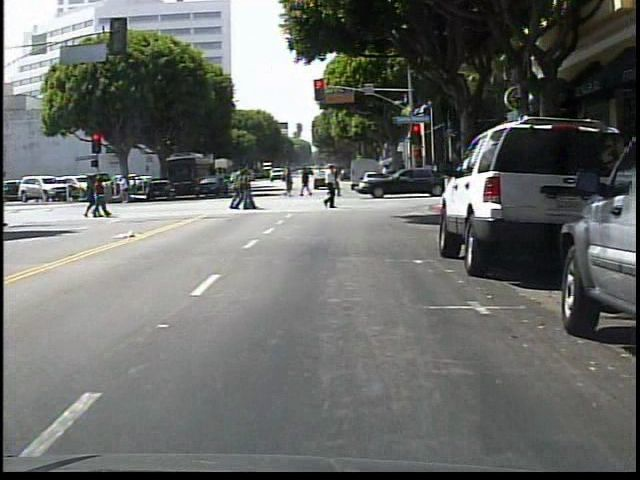person: (319, 160, 343, 212), (117, 175, 136, 207), (326, 167, 345, 196)
